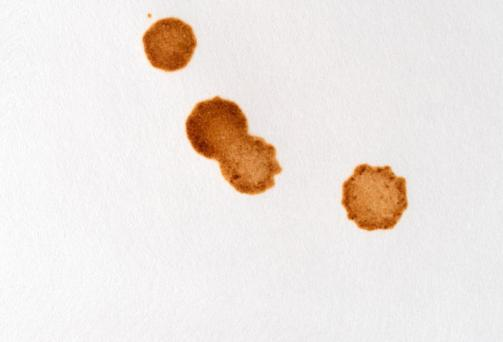stain: (183, 94, 283, 200), (336, 158, 409, 233), (140, 11, 201, 72)
